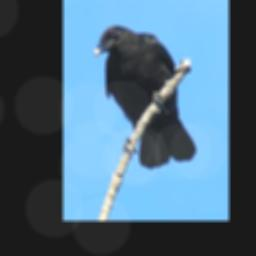Crow: (93, 24, 198, 170)
